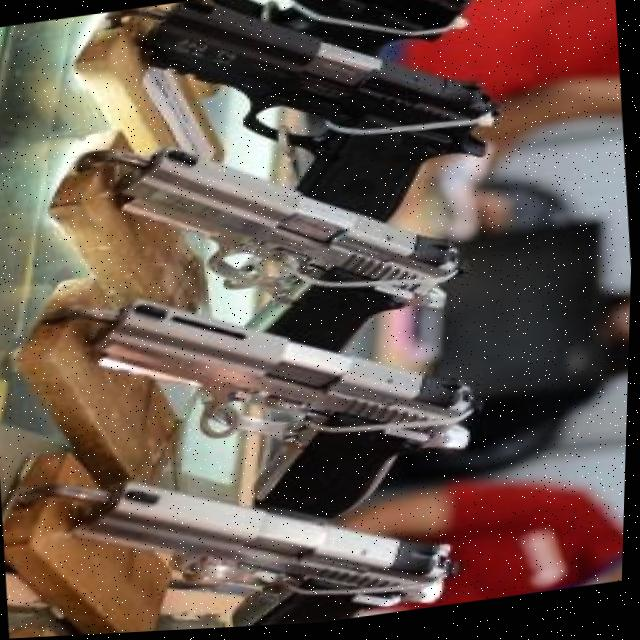pistol: (78, 261, 490, 552), (126, 0, 515, 261), (104, 112, 473, 385), (81, 442, 465, 636), (201, 0, 479, 84)
